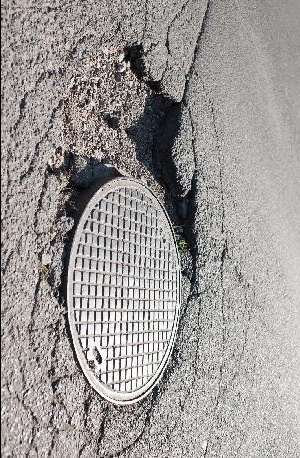pothole: (50, 37, 206, 267)
